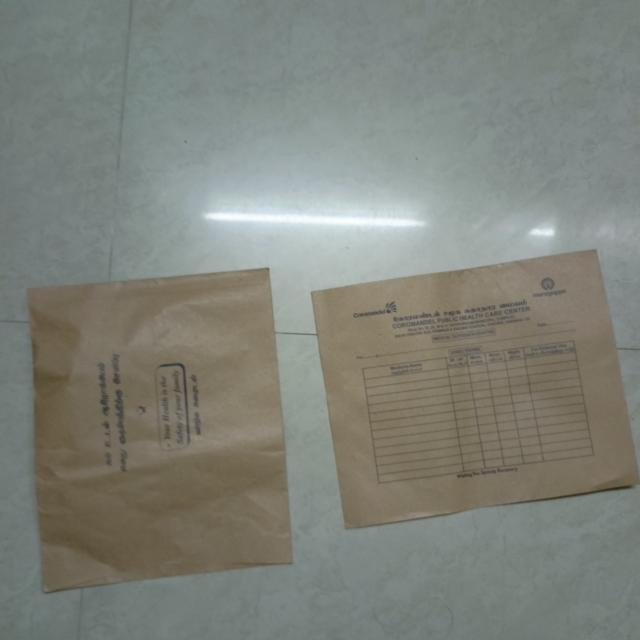box: (311, 246, 640, 532), (31, 263, 301, 595)
